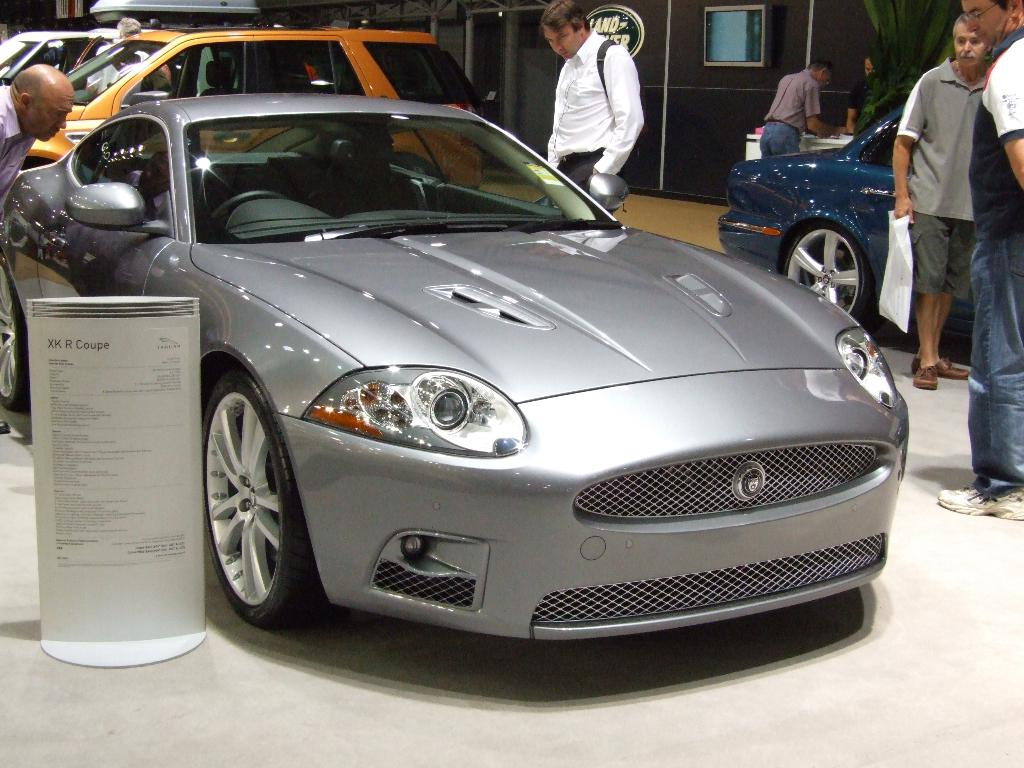Person: (936, 0, 1024, 523), (895, 14, 987, 389), (0, 61, 75, 432), (534, 0, 645, 217), (759, 61, 848, 152), (85, 18, 171, 107), (848, 54, 871, 135)
